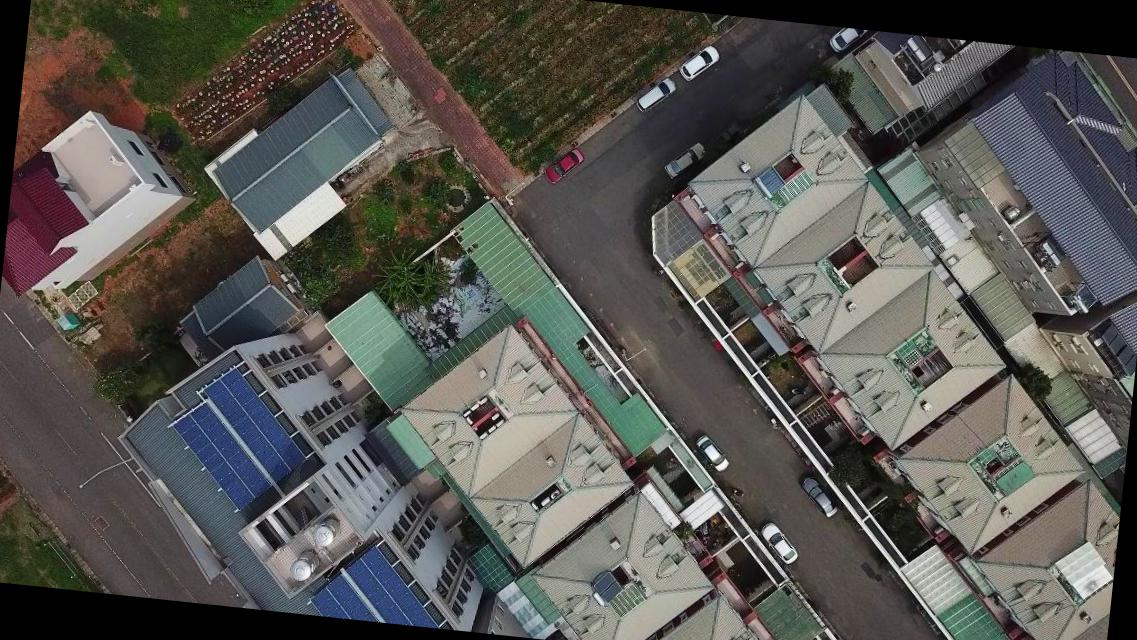vehicle: (660, 140, 707, 182), (798, 474, 841, 519), (541, 144, 585, 187), (630, 74, 676, 114), (676, 43, 720, 84), (759, 520, 799, 564), (693, 433, 733, 473), (826, 26, 864, 56)
